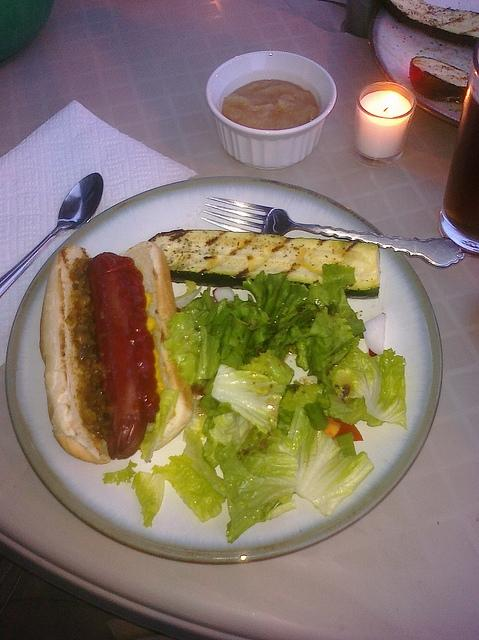lettuce: (286, 405, 375, 517), (214, 426, 299, 542), (328, 336, 408, 430), (150, 427, 228, 523), (211, 350, 294, 434), (306, 263, 367, 339), (242, 270, 309, 332), (306, 323, 355, 384), (132, 471, 165, 527), (208, 412, 254, 447), (274, 304, 320, 338), (196, 326, 222, 380), (302, 306, 341, 338), (102, 460, 137, 486), (315, 392, 331, 410)
tomato: (333, 423, 364, 441), (322, 416, 344, 440)
